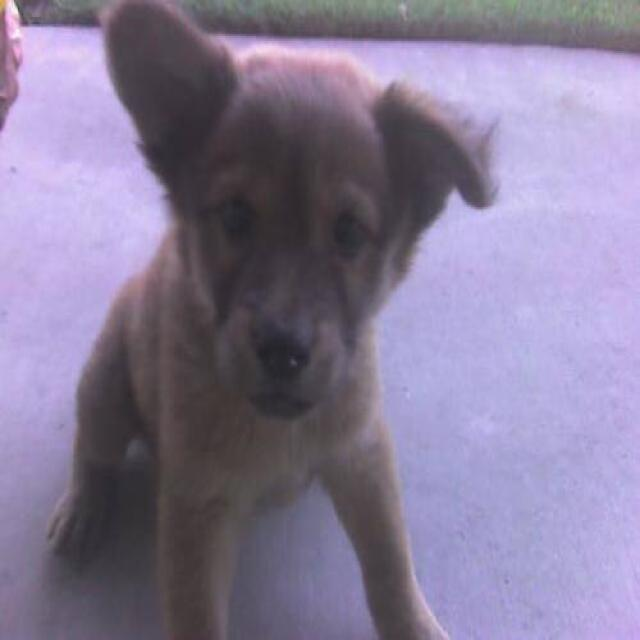dog: (44, 0, 500, 638)
